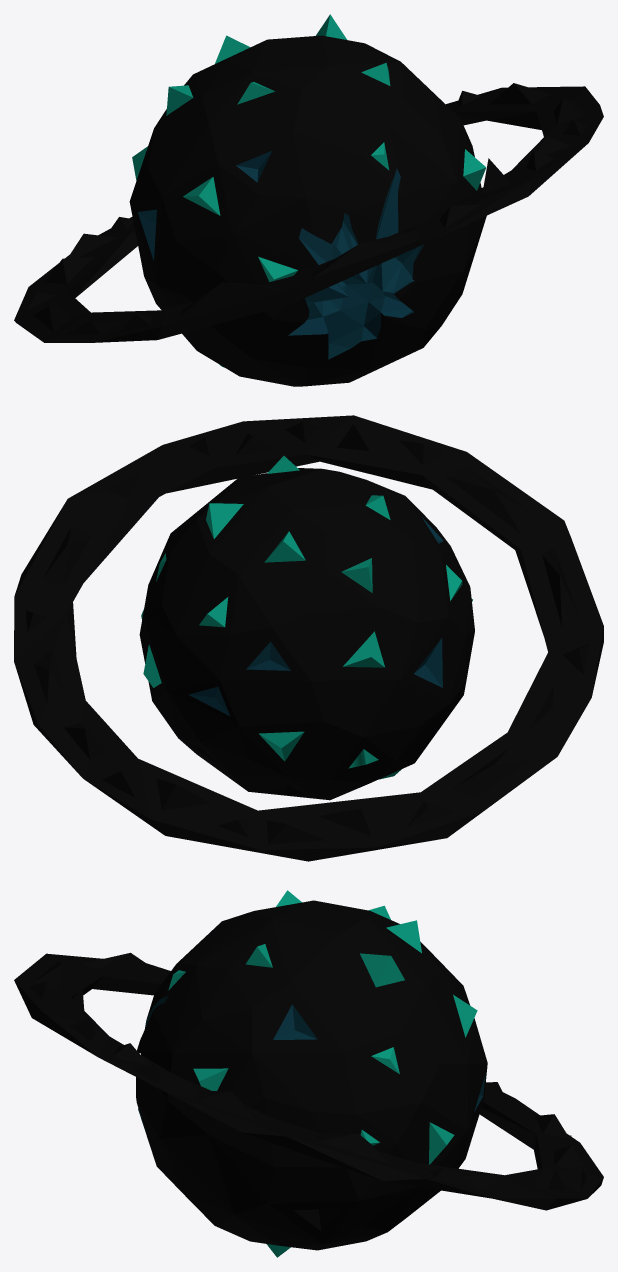
The model's file is Planet8.glb.
3 renders of one model, top to bottom at view 1: azimuth 30°, elevation 25°; view 2: azimuth 150°, elevation 25°; view 3: azimuth 270°, elevation 25°, orthographic. The views are drawn at different scales.
Parts seen in each view (by area): view 1: Planet_08; view 2: Planet_08; view 3: Planet_08.
Boxes of the visible parts, left/top/right/bottom form: Planet_08: left=14, top=14, right=603, bottom=386; Planet_08: left=14, top=415, right=603, bottom=861; Planet_08: left=14, top=890, right=603, bottom=1257.
Size of the model in its own units: 5.17 by 2.96 by 5.02.
